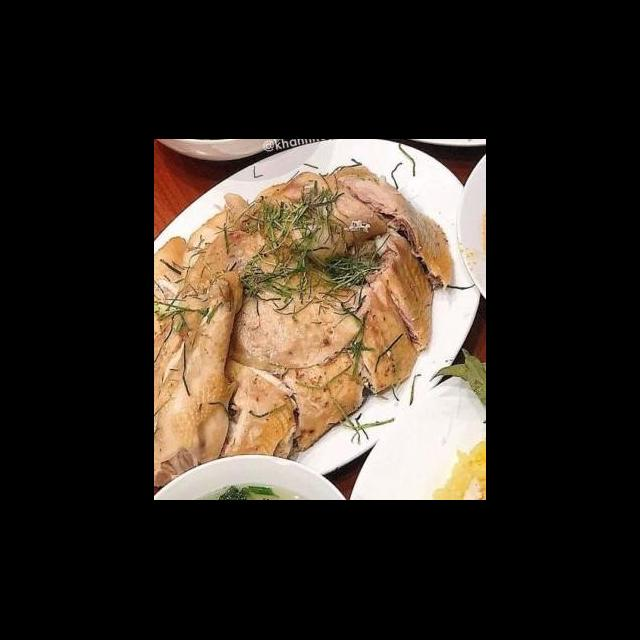thit ga: (179, 190, 379, 370), (155, 266, 246, 490), (327, 162, 458, 296), (348, 226, 438, 400), (251, 168, 396, 274), (204, 354, 301, 468), (277, 346, 370, 454)
